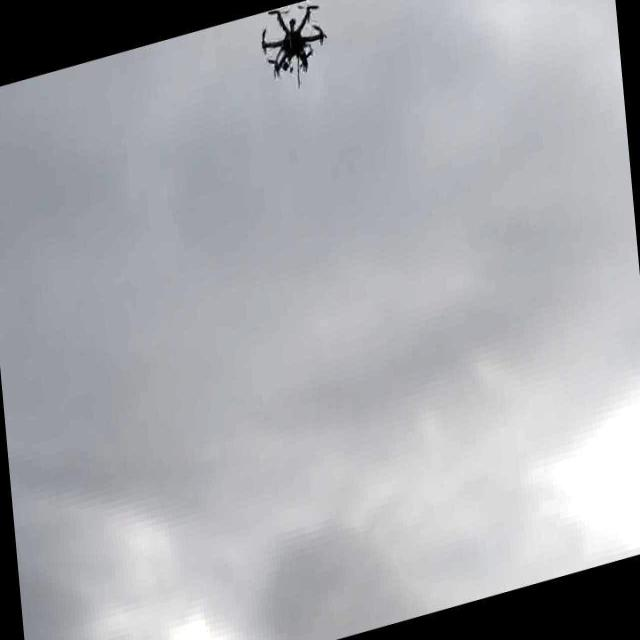drone: (251, 0, 331, 95)
